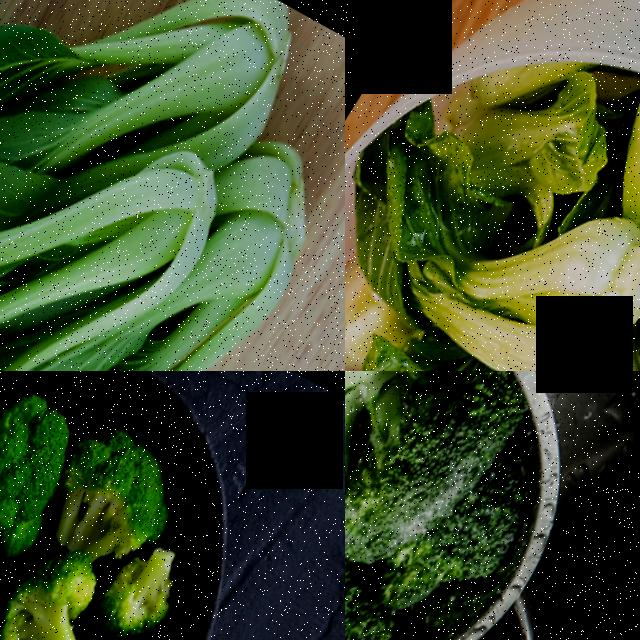bok choy: (345, 98, 640, 371), (0, 85, 233, 371), (86, 132, 345, 371), (10, 0, 313, 181), (592, 76, 640, 242)
broccoli: (345, 371, 551, 581), (41, 441, 175, 570), (0, 371, 105, 526), (95, 531, 209, 640), (0, 560, 120, 640)
